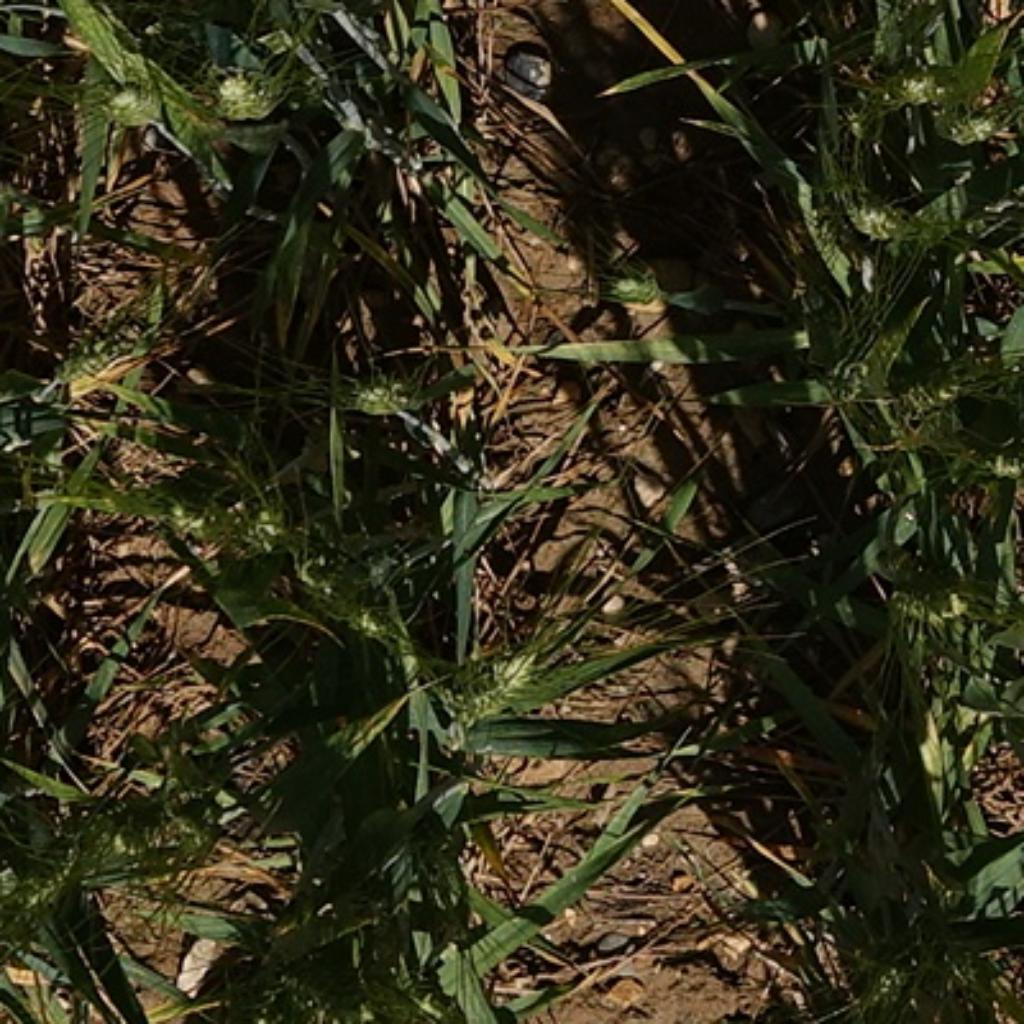0-0: (860, 553, 994, 648), (402, 825, 502, 937), (437, 636, 544, 738), (192, 491, 309, 578), (17, 823, 108, 918), (824, 168, 926, 250), (35, 335, 128, 422), (885, 367, 988, 442), (194, 58, 291, 135), (332, 350, 435, 419), (844, 947, 931, 1024), (93, 68, 169, 143), (867, 64, 960, 120), (936, 102, 1018, 161), (353, 593, 409, 652), (605, 266, 666, 314), (971, 445, 1023, 497)
